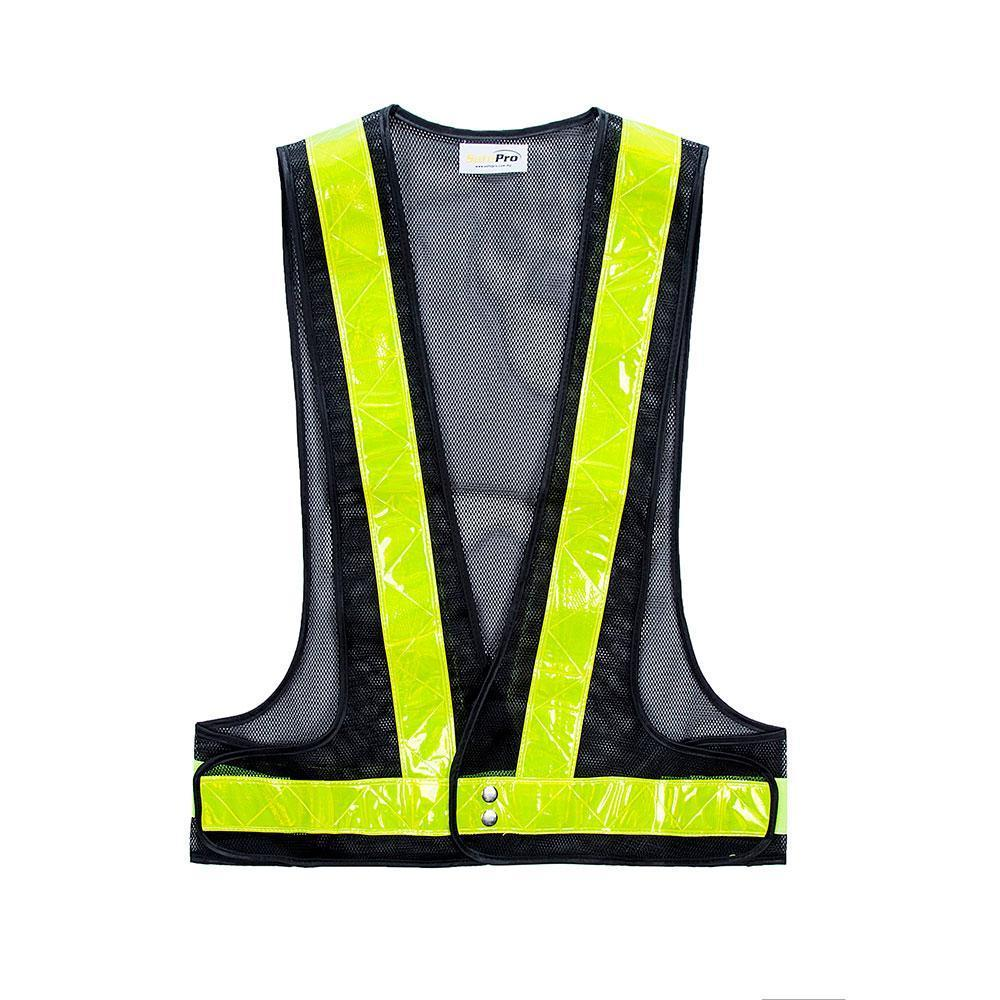vest: (184, 99, 791, 878)
